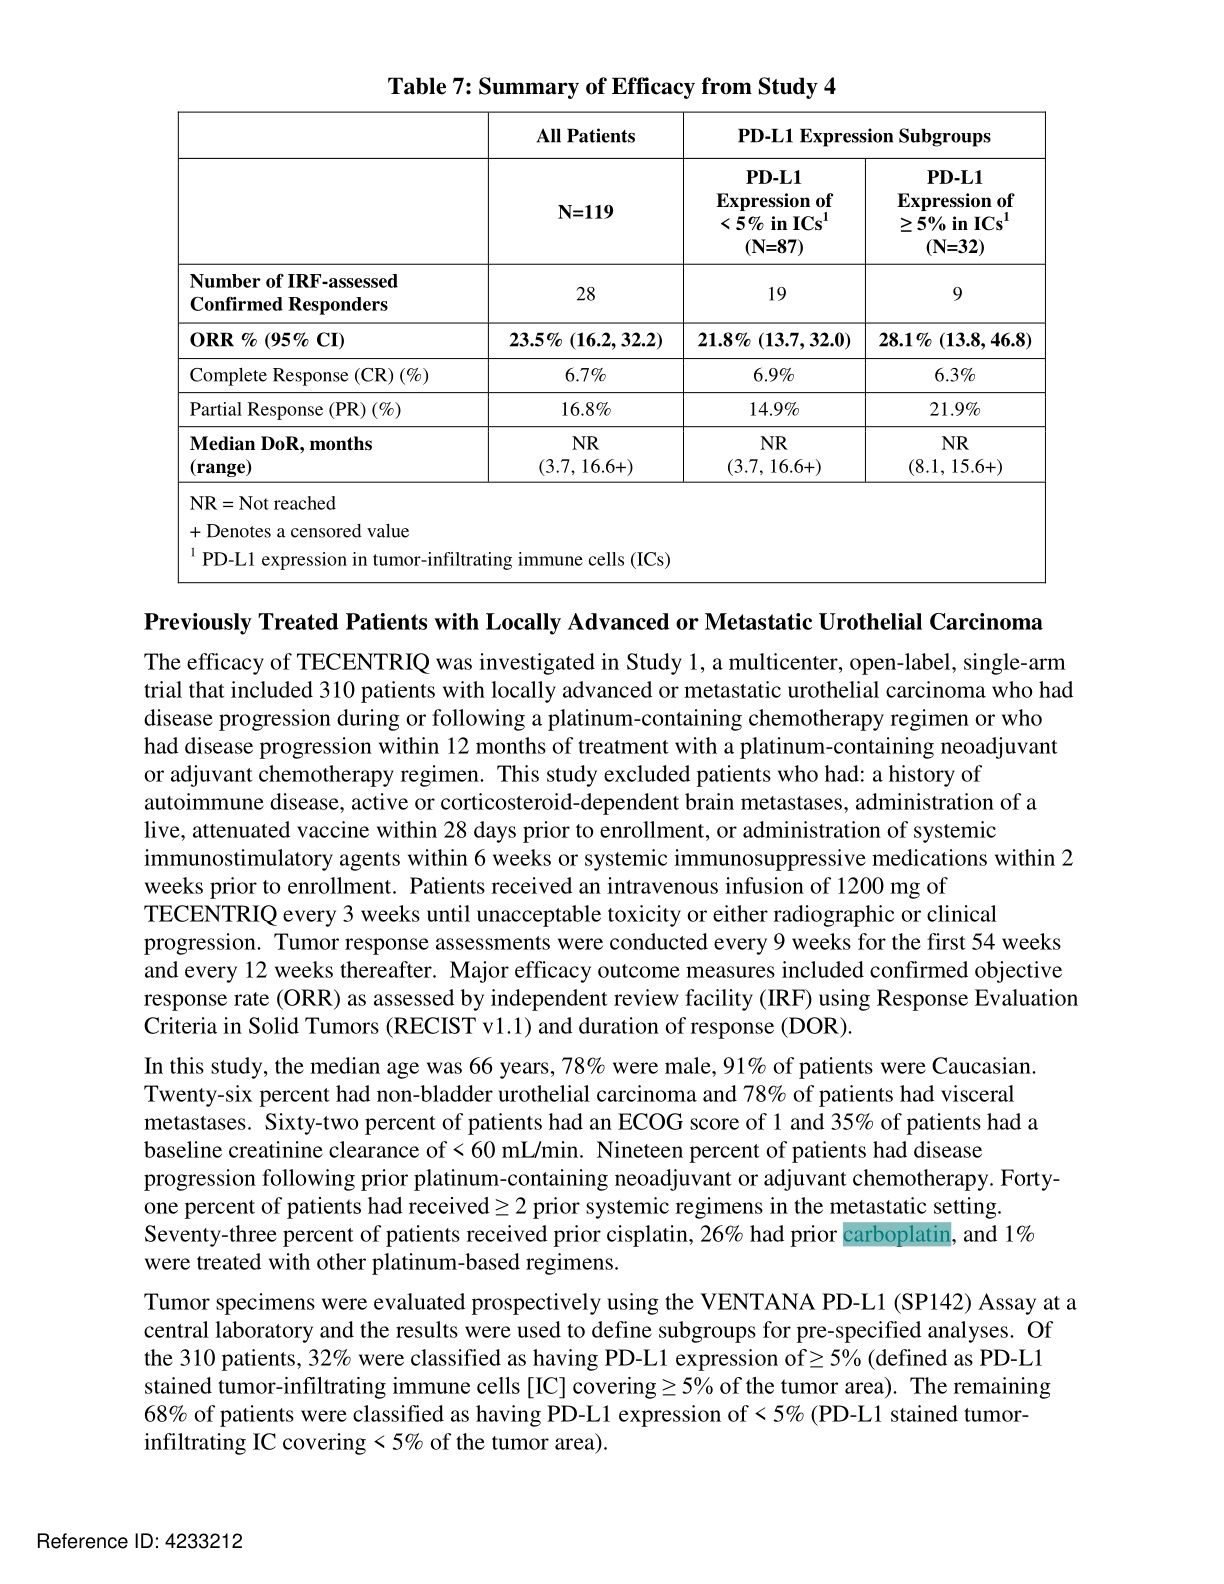merged_cells: (176, 111, 1049, 585)
